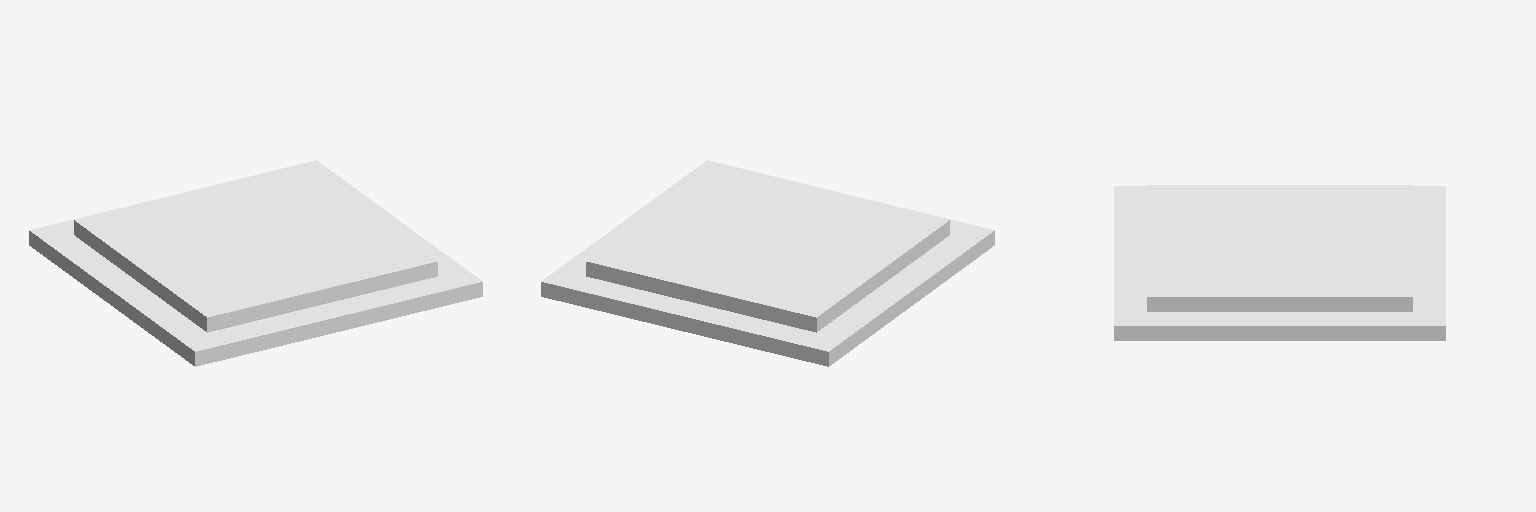
The model's file is switch_pressed.obj.
3 renders of one model, left to right at view 1: azimuth 30°, elevation 25°; view 2: azimuth 150°, elevation 25°; view 3: azimuth 270°, elevation 25°, orthographic.
Visible parts, largest first — view 1: object 1; view 2: object 1; view 3: object 1.
Part boxes in pixels (x1,y1,x2,y2): object 1: (29, 160, 482, 366); object 1: (541, 160, 994, 366); object 1: (1114, 185, 1445, 340).
Size of the model in its own units: 4 by 0.4 by 4.